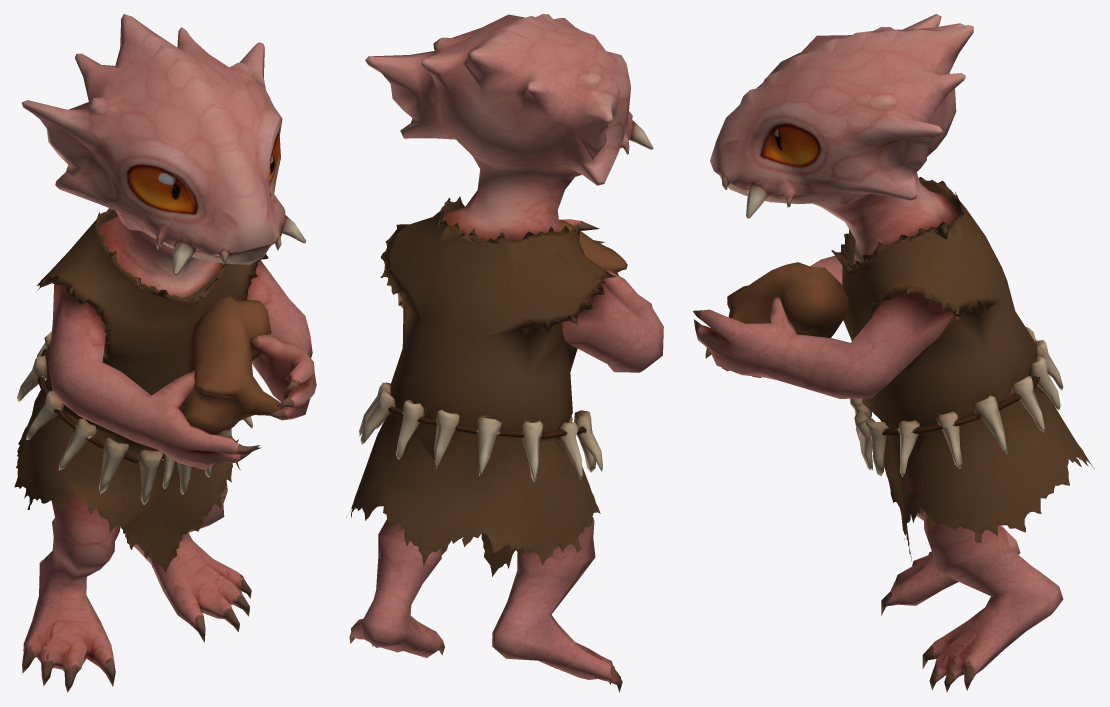
The model's file is selected.glb.
3 renders of one model, left to right at view 1: azimuth 30°, elevation 25°; view 2: azimuth 150°, elevation 25°; view 3: azimuth 270°, elevation 25°, orthographic. The views are drawn at different scales.
Parts seen in each view (by area): view 1: tripo_node_c7671c20-ed54-4585-b80d-09898332ad84; view 2: tripo_node_c7671c20-ed54-4585-b80d-09898332ad84; view 3: tripo_node_c7671c20-ed54-4585-b80d-09898332ad84.
Boxes of the visible parts, left/top/right/bottom form: tripo_node_c7671c20-ed54-4585-b80d-09898332ad84: left=14, top=14, right=316, bottom=692; tripo_node_c7671c20-ed54-4585-b80d-09898332ad84: left=346, top=14, right=663, bottom=692; tripo_node_c7671c20-ed54-4585-b80d-09898332ad84: left=693, top=14, right=1094, bottom=692.
Size of the model in its own units: 0.4199 by 0.998 by 0.5879.
Materials: 1 (1 with a texture image).
